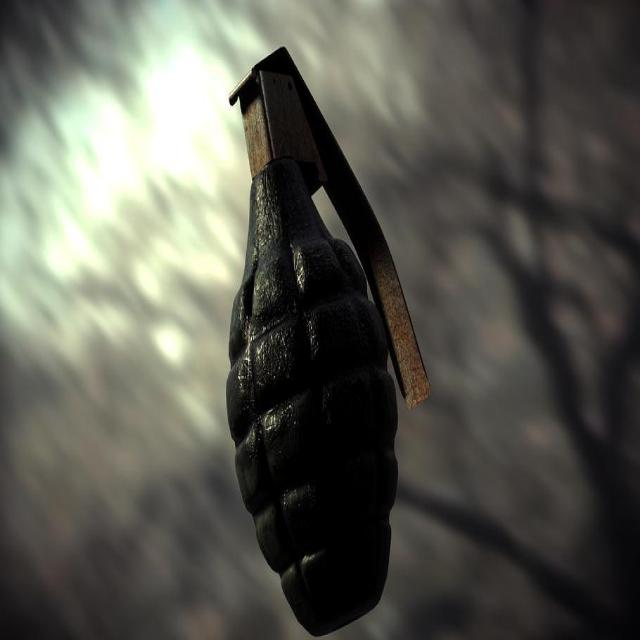grenade: (226, 48, 433, 639)
